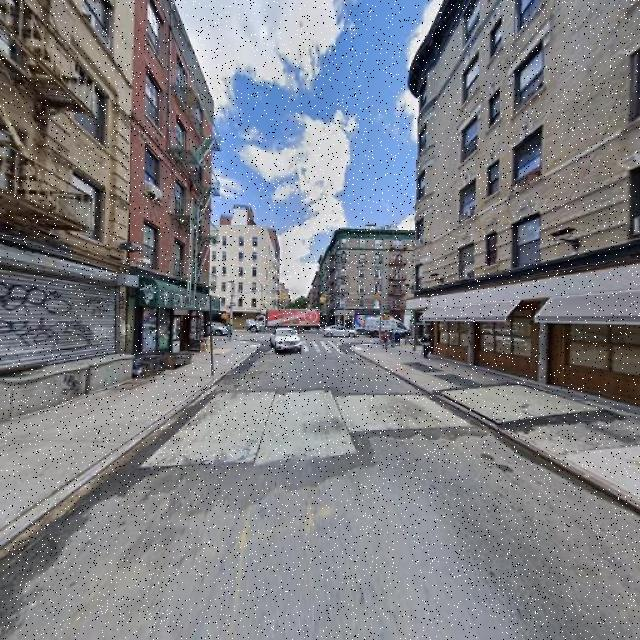Building: (420, 1, 640, 412), (1, 1, 124, 404), (129, 1, 205, 365)
